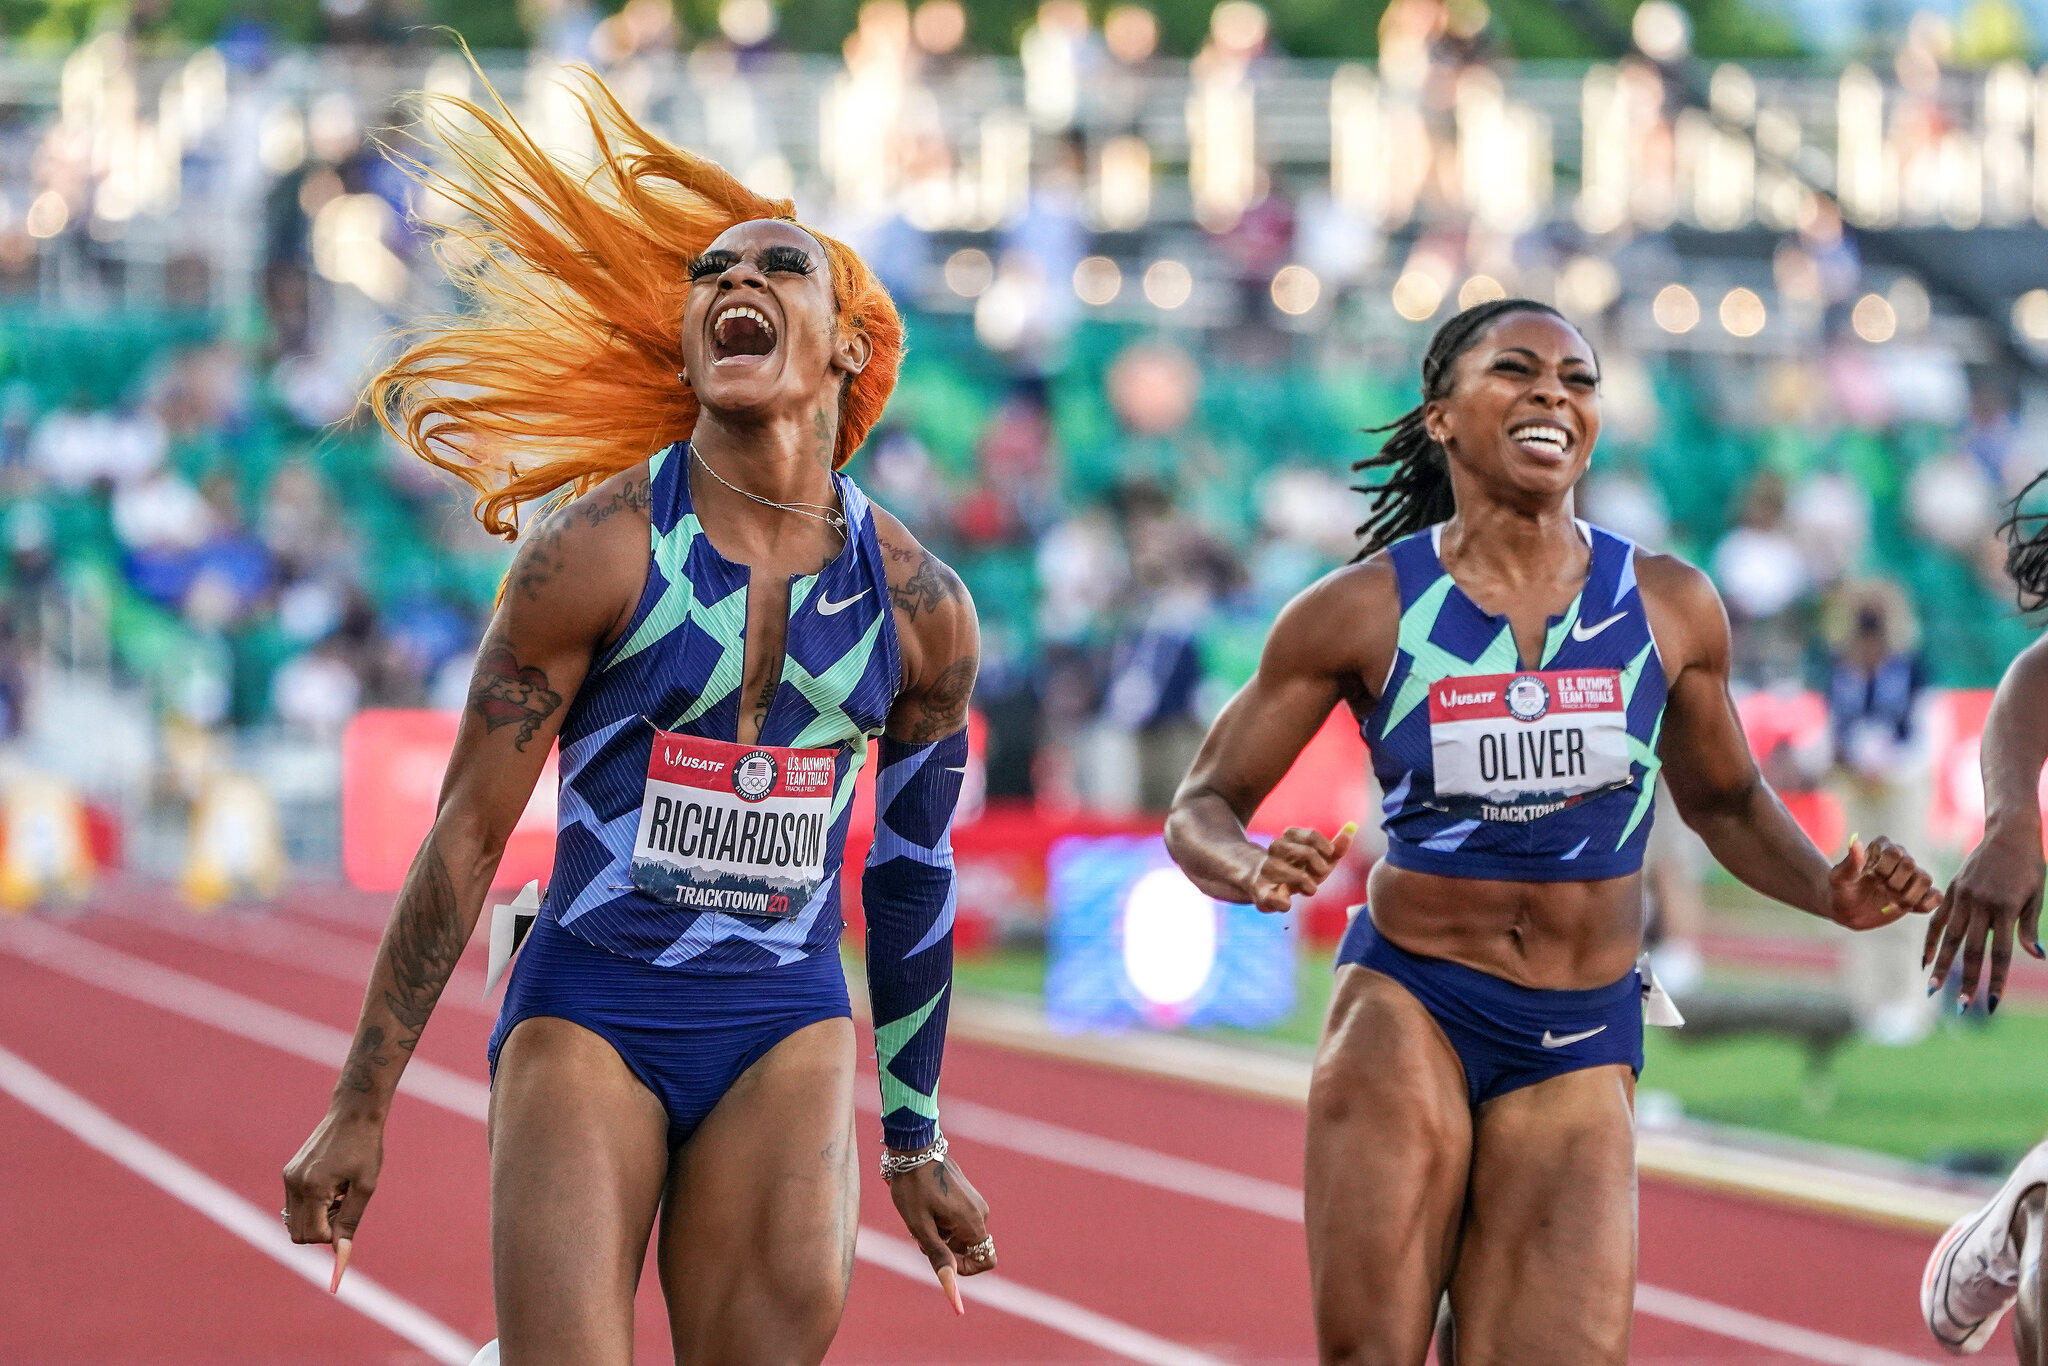runner: (277, 216, 1007, 1366), (1155, 303, 1944, 1366)
